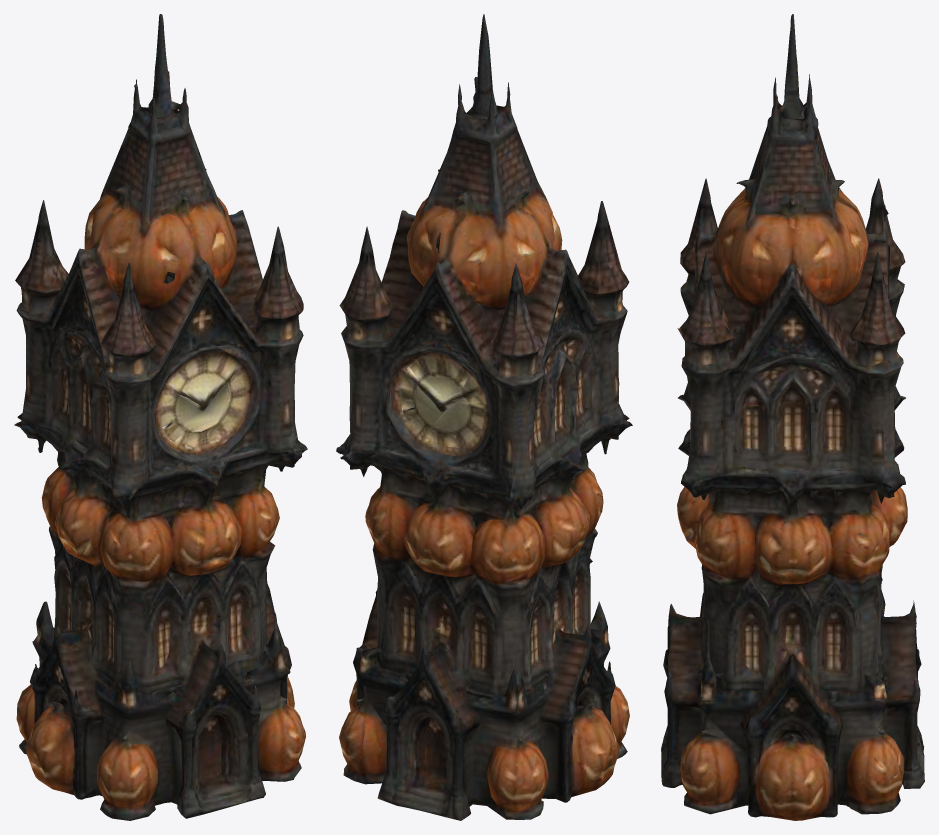
Rendered from clock-tower.glb.
3 renders of one model, left to right at view 1: azimuth 30°, elevation 25°; view 2: azimuth 150°, elevation 25°; view 3: azimuth 270°, elevation 25°, orthographic.
Parts seen in each view (by area): view 1: tripo_node_c16d2b19-6d85-43f6-b848-c5fe605e3826; view 2: tripo_node_c16d2b19-6d85-43f6-b848-c5fe605e3826; view 3: tripo_node_c16d2b19-6d85-43f6-b848-c5fe605e3826.
Boxes of the visible parts, x1,y1,x2,y2 form: tripo_node_c16d2b19-6d85-43f6-b848-c5fe605e3826: (14,14,307,820); tripo_node_c16d2b19-6d85-43f6-b848-c5fe605e3826: (336,14,632,820); tripo_node_c16d2b19-6d85-43f6-b848-c5fe605e3826: (661,14,924,820).
Bounding box in the file's own units: 0.3513 × 0.9847 × 0.3122.
Materials: 1 (1 with a texture image).
